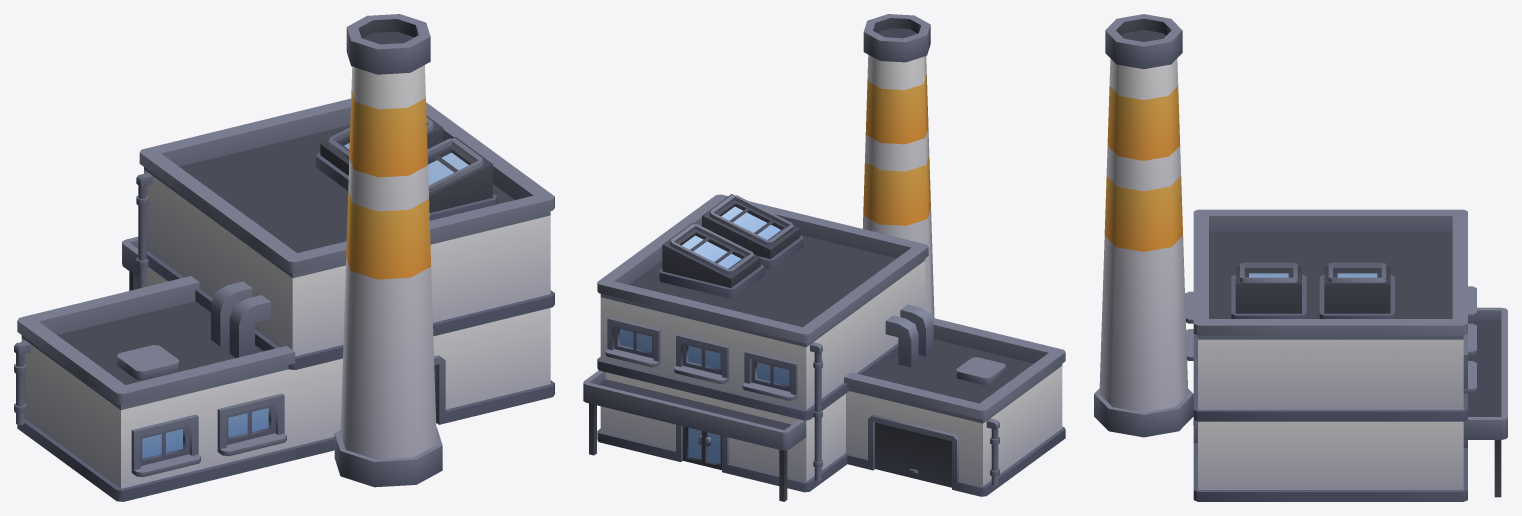
File: building-l.fbx
3 renders of one model, left to right at view 1: azimuth 30°, elevation 25°; view 2: azimuth 150°, elevation 25°; view 3: azimuth 270°, elevation 25°, orthographic. The views are drawn at different scales.
Parts seen in each view (by area): view 1: building-l; view 2: building-l; view 3: building-l.
Boxes of the visible parts, x1,y1,x2,y2 form: building-l: [14, 14, 554, 501]; building-l: [583, 14, 1065, 501]; building-l: [1094, 14, 1507, 501].
Size of the model in its own units: 208 by 192 by 187.
1 material, 1 textured.
